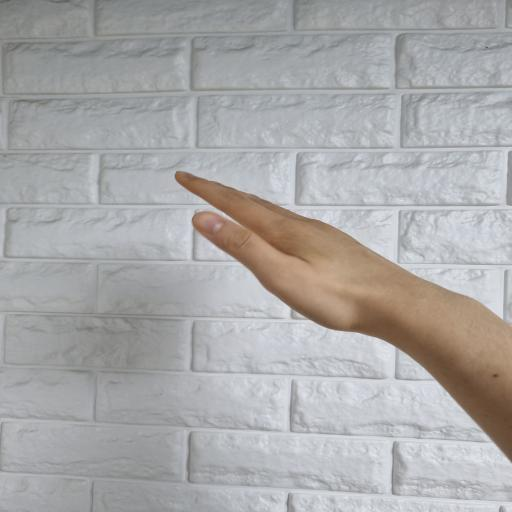Paper: (176, 168, 508, 444)
